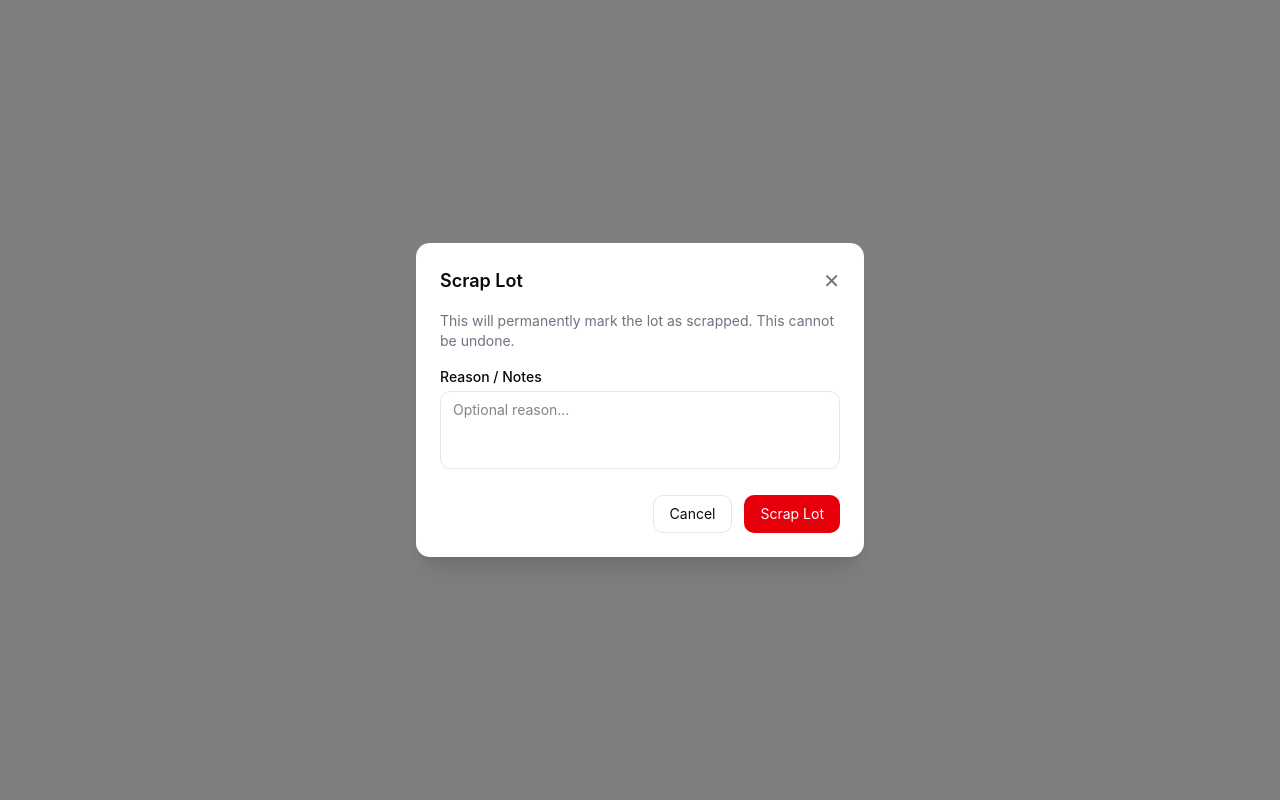
ScrapLostModal › scrap action › shows error message when API returns failure
Click the button "Scrap Lot" at (792, 514), box [744, 495, 840, 533]
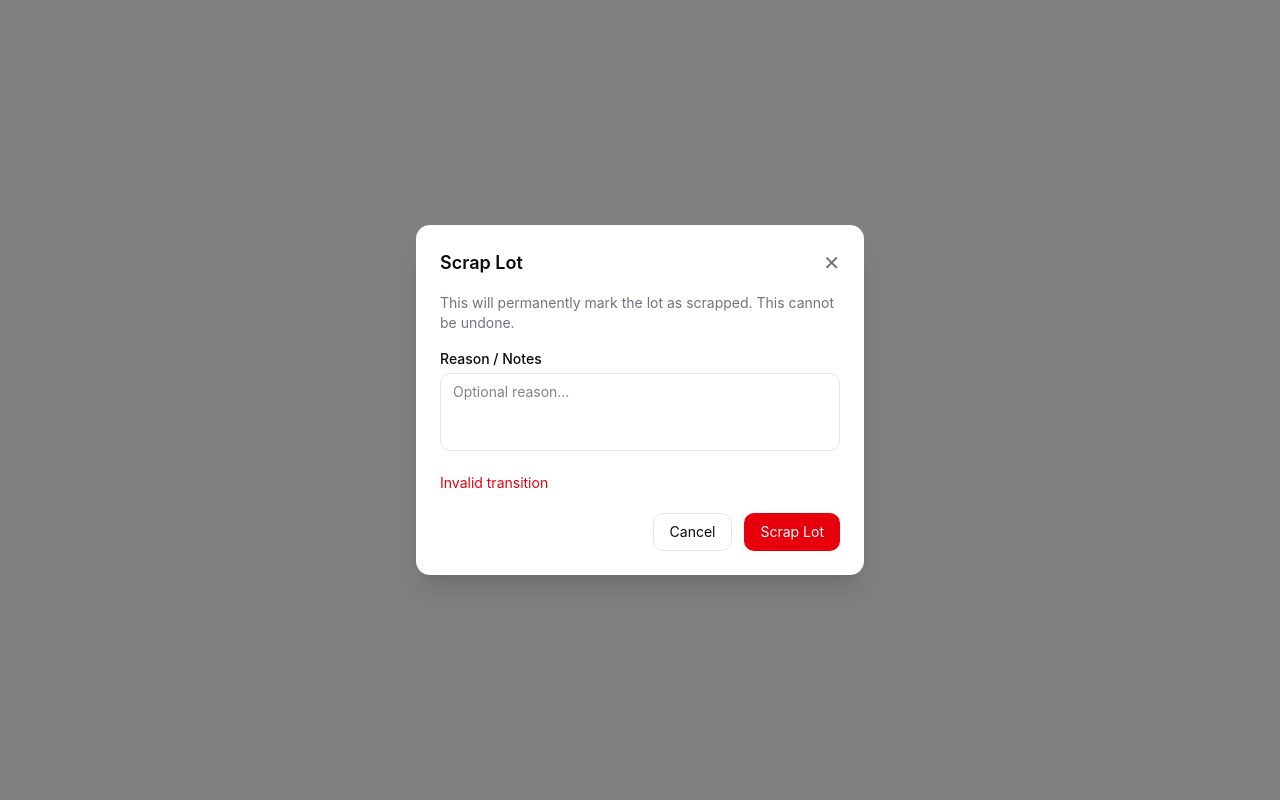
Expected: the text "Invalid transition" is shown, [440, 474, 548, 491]
